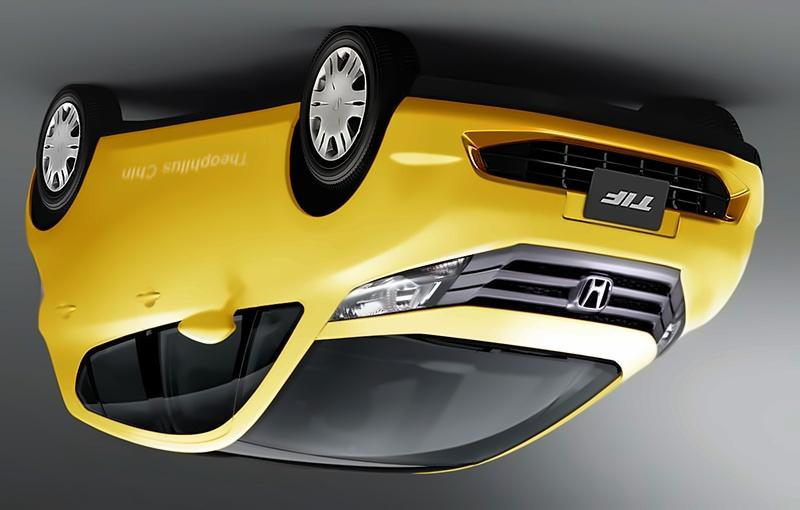Car hood: (314, 304, 664, 377)
Fender - -F-L-: (282, 98, 382, 307)
Front bumper: (382, 70, 777, 268)
Passenger-s door - -F-L-: (132, 126, 280, 448)
Passenger-s door - -R-L-: (40, 143, 132, 448), (33, 128, 113, 283)
Rear bumper: (17, 165, 41, 236)
Side bumper - -L-: (81, 96, 315, 166)
Side mirror - -L-: (324, 252, 475, 325), (174, 302, 243, 351)
Side mirror - -R-: (654, 295, 689, 362)
